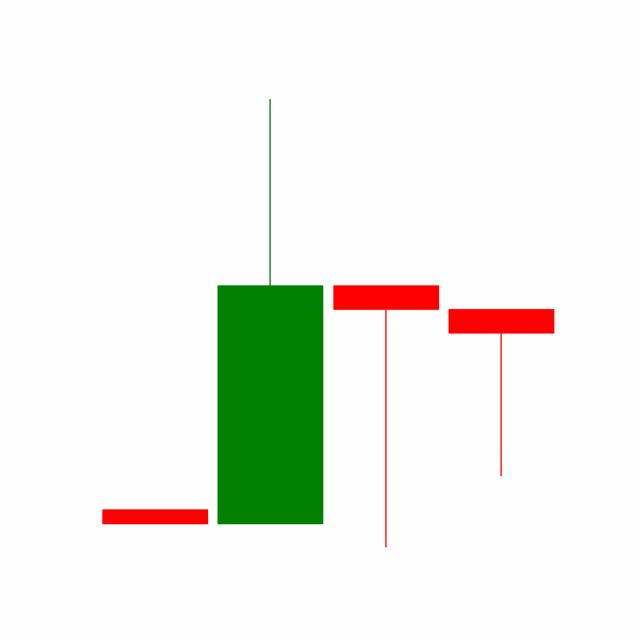Hammer: (328, 282, 444, 550)
